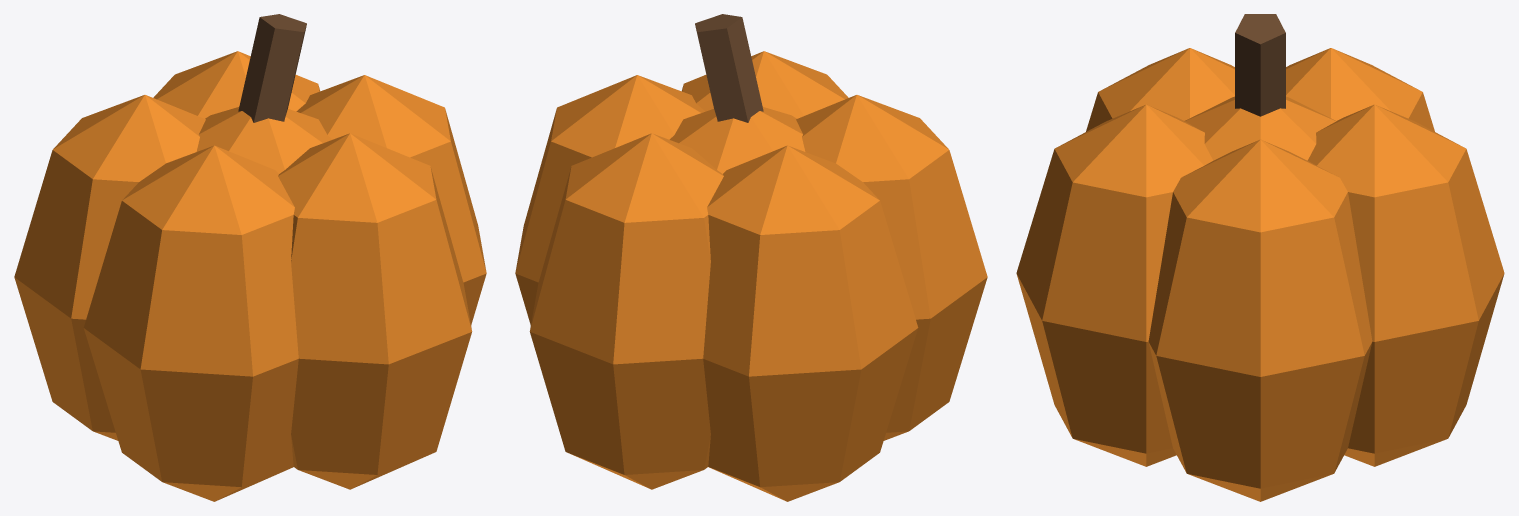
Rendered from Food_Pumpkin.obj.
3 views of the same model, side by side, from view 1: azimuth 30°, elevation 25°; view 2: azimuth 150°, elevation 25°; view 3: azimuth 270°, elevation 25° (orthographic).
Size of the model in its own units: 1.76 by 1.82 by 1.83.
